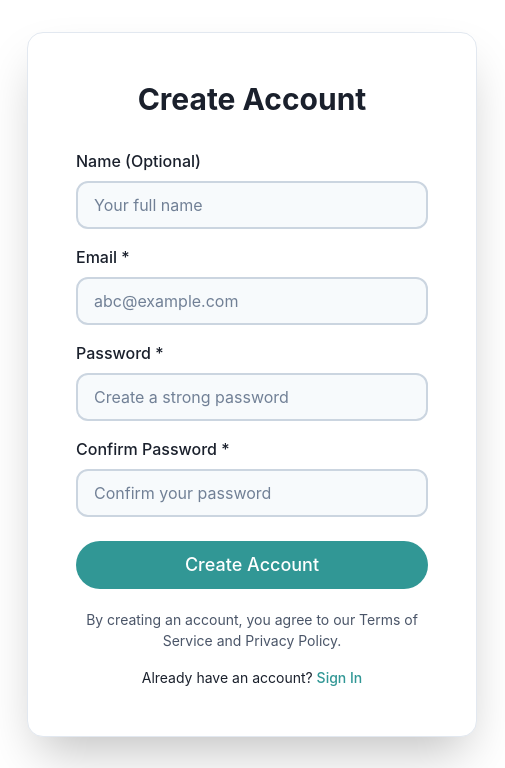
Test case: Register Component › validates required fields and shows errors for empty fields
Click the button "Create Account": (252,564) [76,540,428,588]
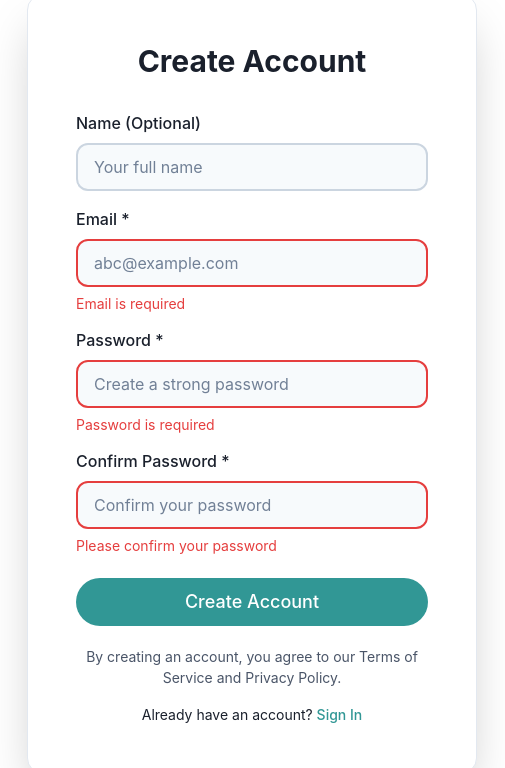
Check: the text "Email is required" is shown, box [76,295,185,312]
Check: the text "Password is required" is shown, box [76,416,215,433]
Check: the text "Please confirm your password" is shown, box [76,537,277,554]
